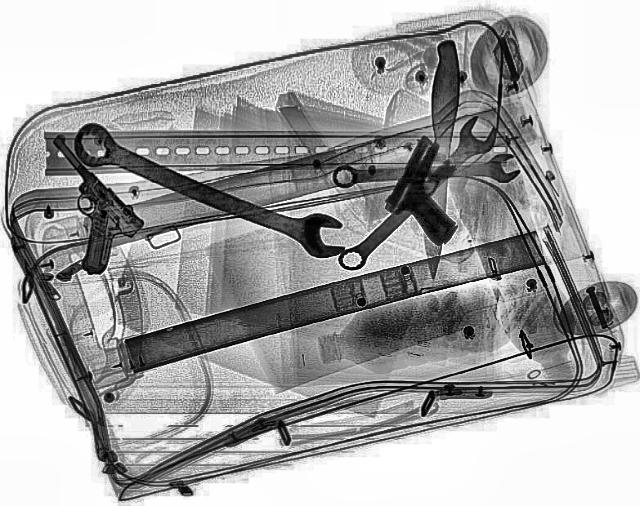Gun: (0, 131, 160, 270), (371, 136, 492, 246)
Knife: (416, 38, 462, 282)
Wrench: (56, 118, 360, 264), (326, 112, 508, 276), (330, 152, 520, 190)
